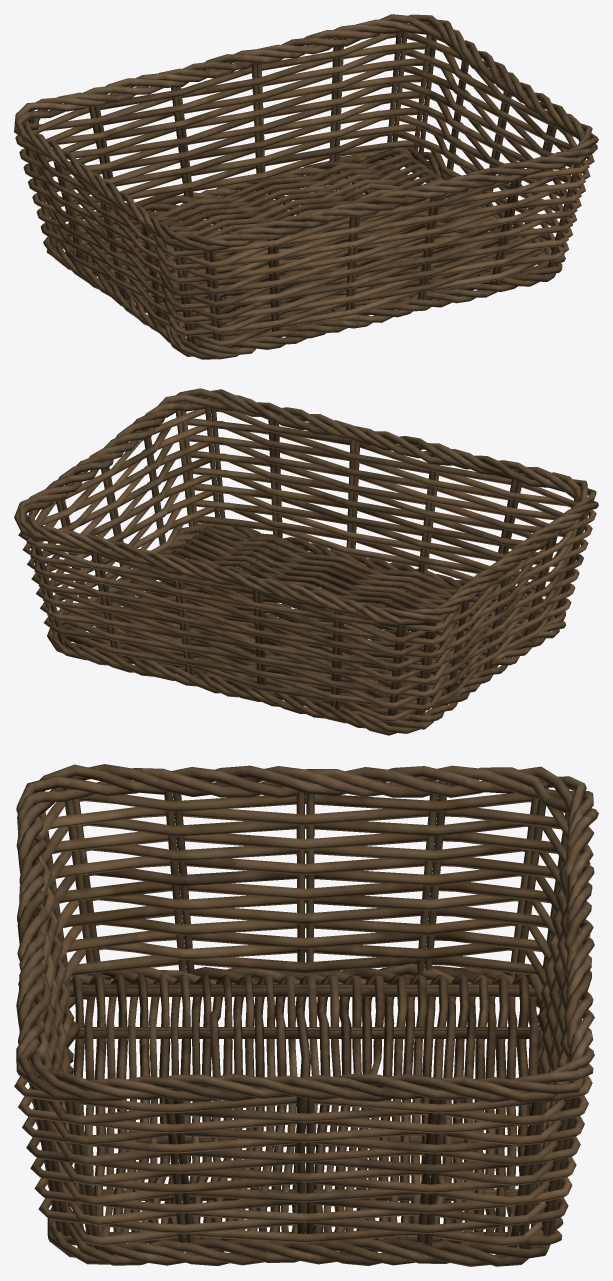
File: wicker_basket_01.glb
The picture shows the model from 3 angles, top to bottom: view 1: azimuth 30°, elevation 25°; view 2: azimuth 150°, elevation 25°; view 3: azimuth 270°, elevation 25°; orthographic projection. The views are drawn at different scales.
Visible parts, largest first — view 1: wicker_basket_01; view 2: wicker_basket_01; view 3: wicker_basket_01.
Part boxes in pixels (x1,y1,x2,y2): wicker_basket_01: [14, 14, 598, 359]; wicker_basket_01: [14, 388, 598, 735]; wicker_basket_01: [14, 764, 598, 1266].
Size of the model in its own units: 0.3832 by 0.1174 by 0.295.
1 material, 1 textured.
